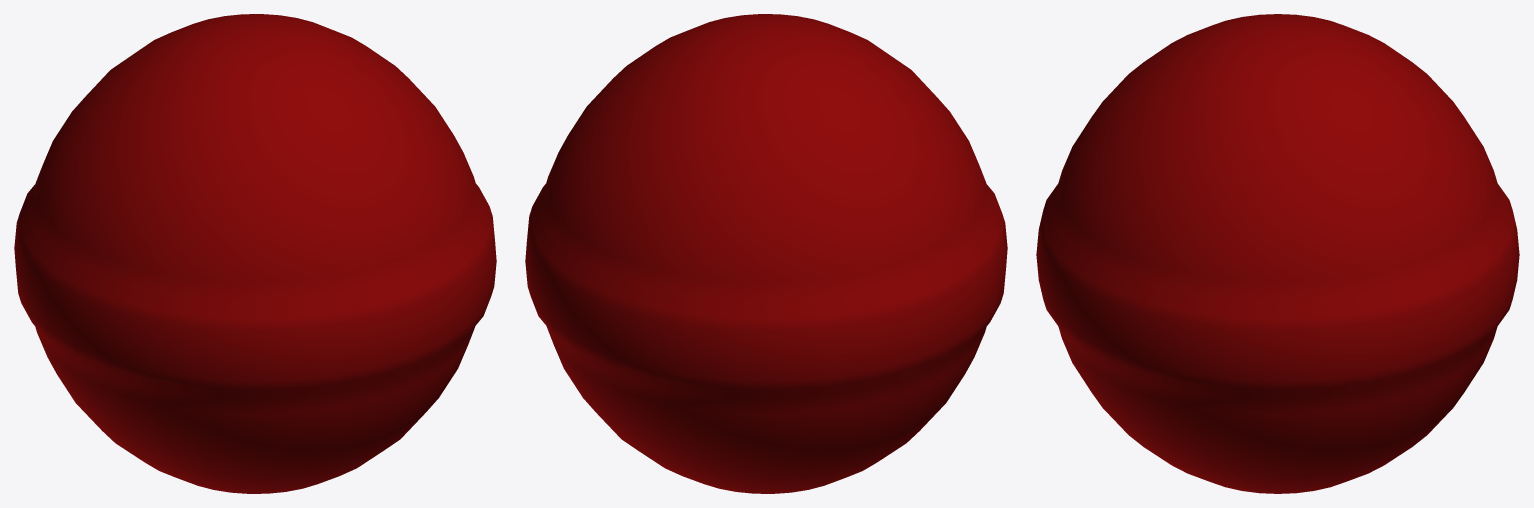
The model's file is Paleta.gltf.
3 renders of one model, left to right at view 1: azimuth 30°, elevation 25°; view 2: azimuth 150°, elevation 25°; view 3: azimuth 270°, elevation 25°, orthographic.
Visible parts, largest first — view 1: Head; view 2: Head; view 3: Head.
Part boxes in pixels (left/top/right/bottom): Head: left=14, top=14, right=496, bottom=493; Head: left=525, top=14, right=1007, bottom=493; Head: left=1036, top=14, right=1519, bottom=493.
Size of the model in its own units: 100 by 100 by 100.
1 material, 1 textured.
